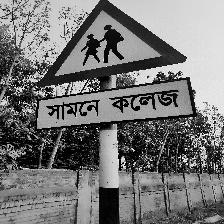College-in-front: (23, 1, 212, 132)
